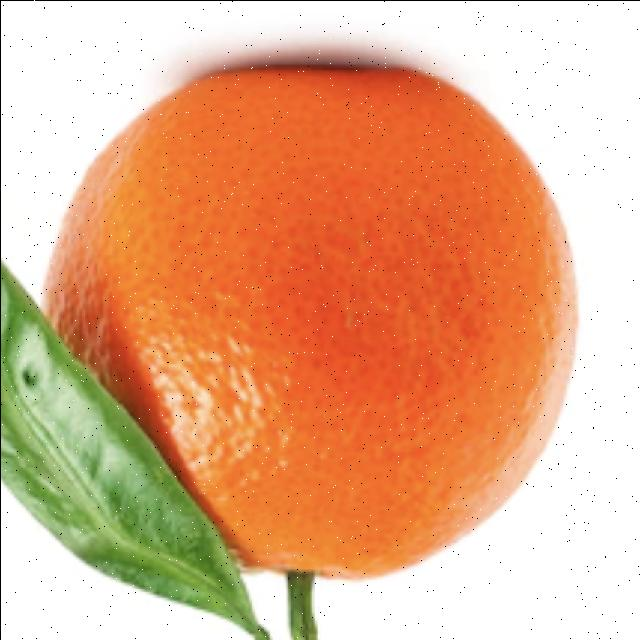orange: (36, 62, 578, 584)
